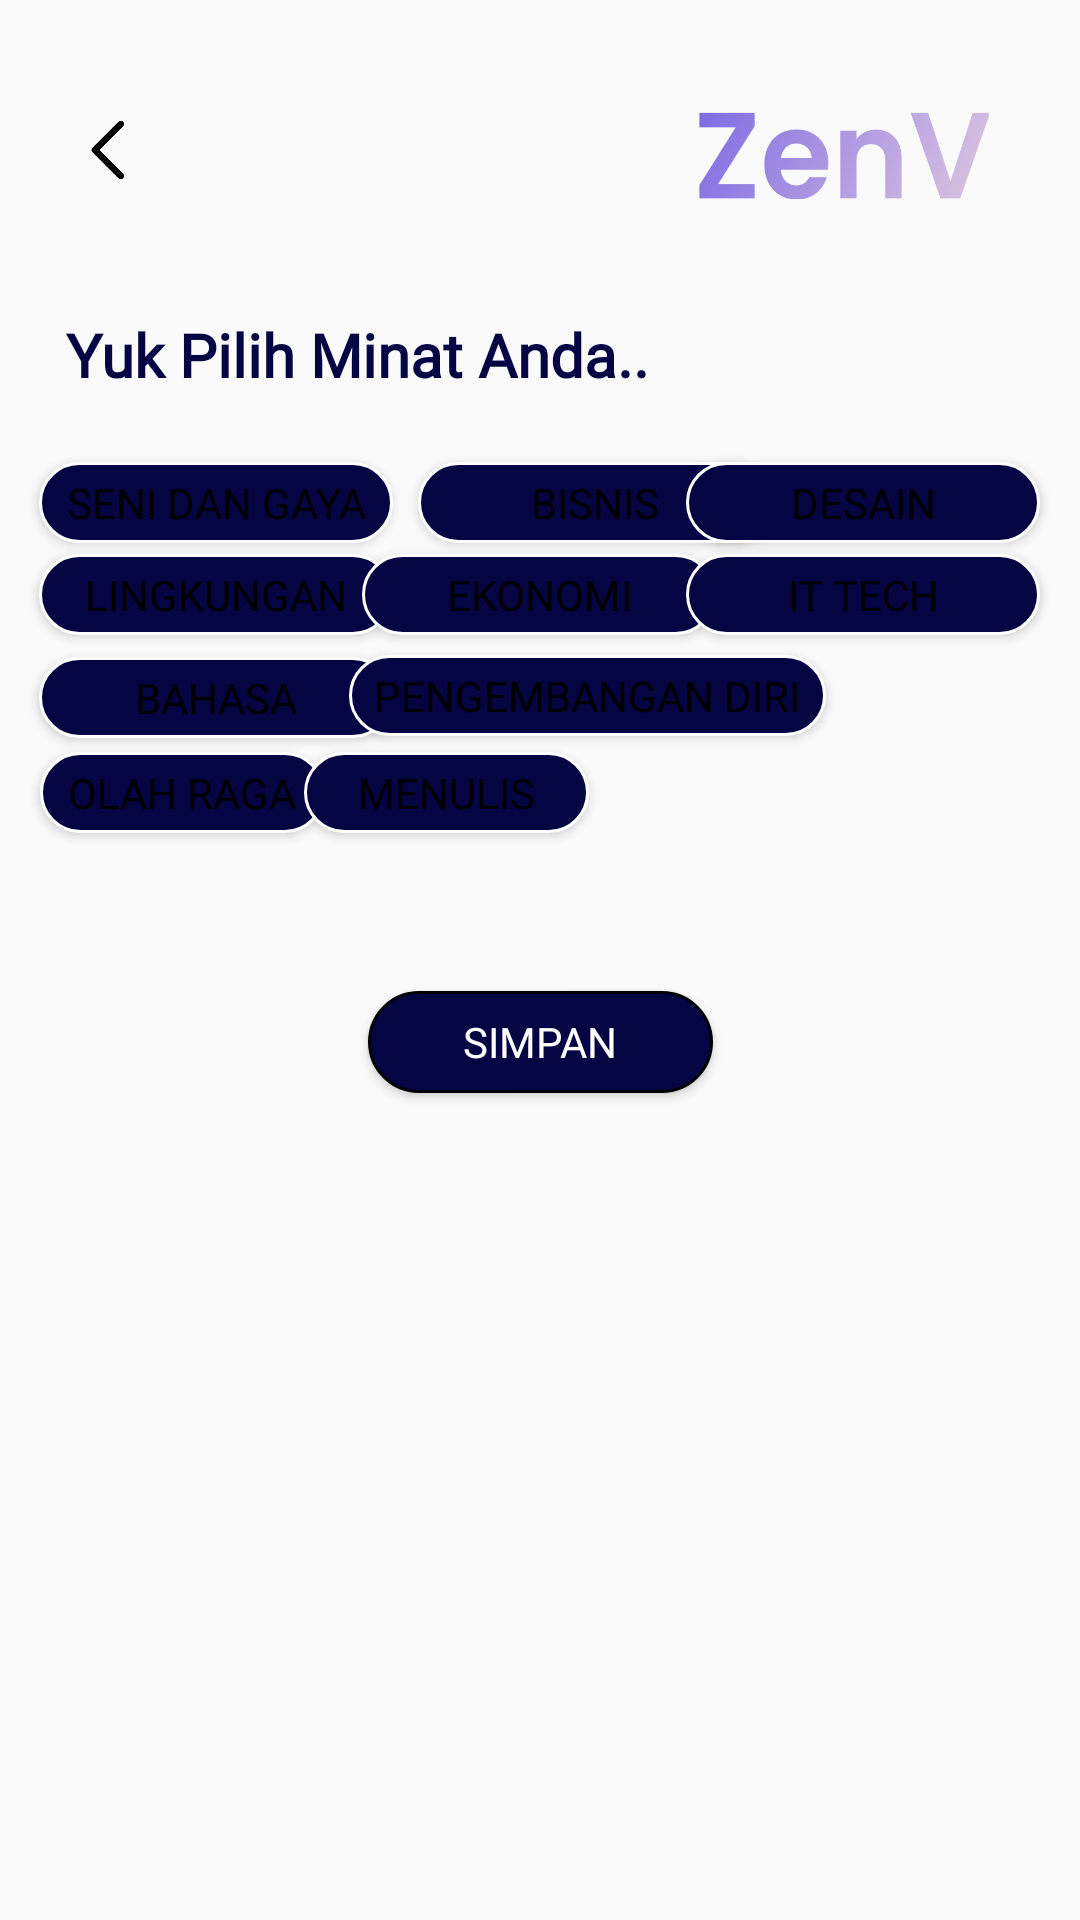

Named icons in this screenshot (1080 x 1920) and their centers, [x,y]:
backarrow: [107,150]
